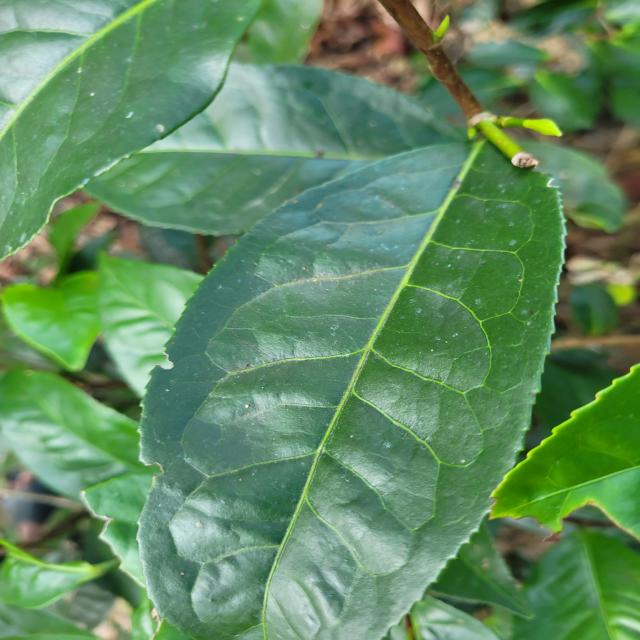Category D(7+ days, Not for Tea): (125, 125, 585, 640)
